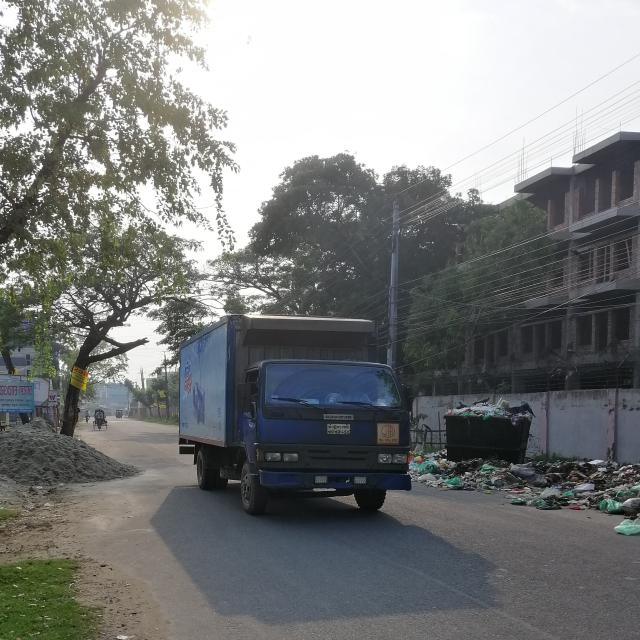Pick-up-van: (165, 310, 431, 516)
